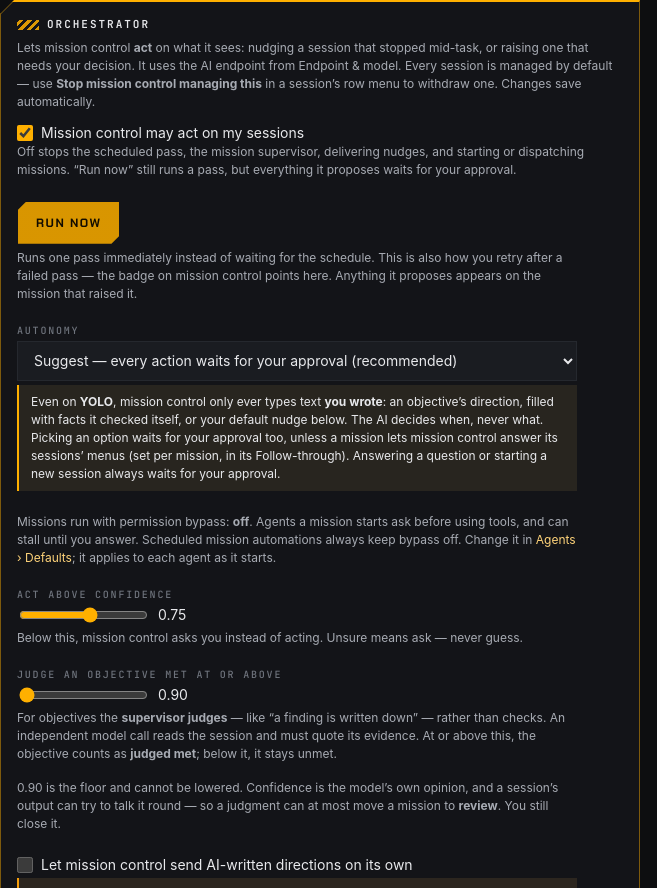
Test: the displayed value follows the drag without waiting for the server
Set the slider labelled "Act above confidence" to "0.55": point(40, 615) [19, 607, 148, 623]
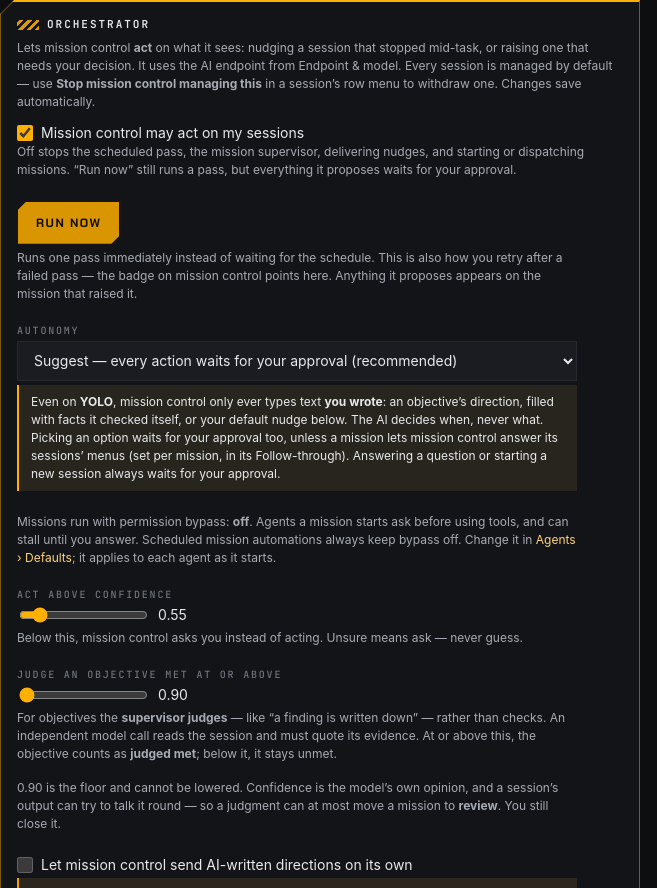
Check: the text "0.55" is shown, box [158, 605, 187, 625]
